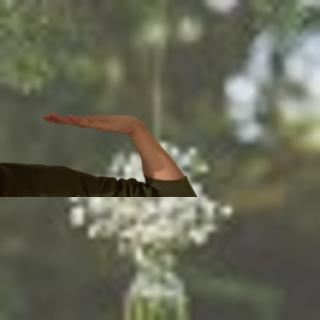WAIT: (38, 104, 142, 135)
